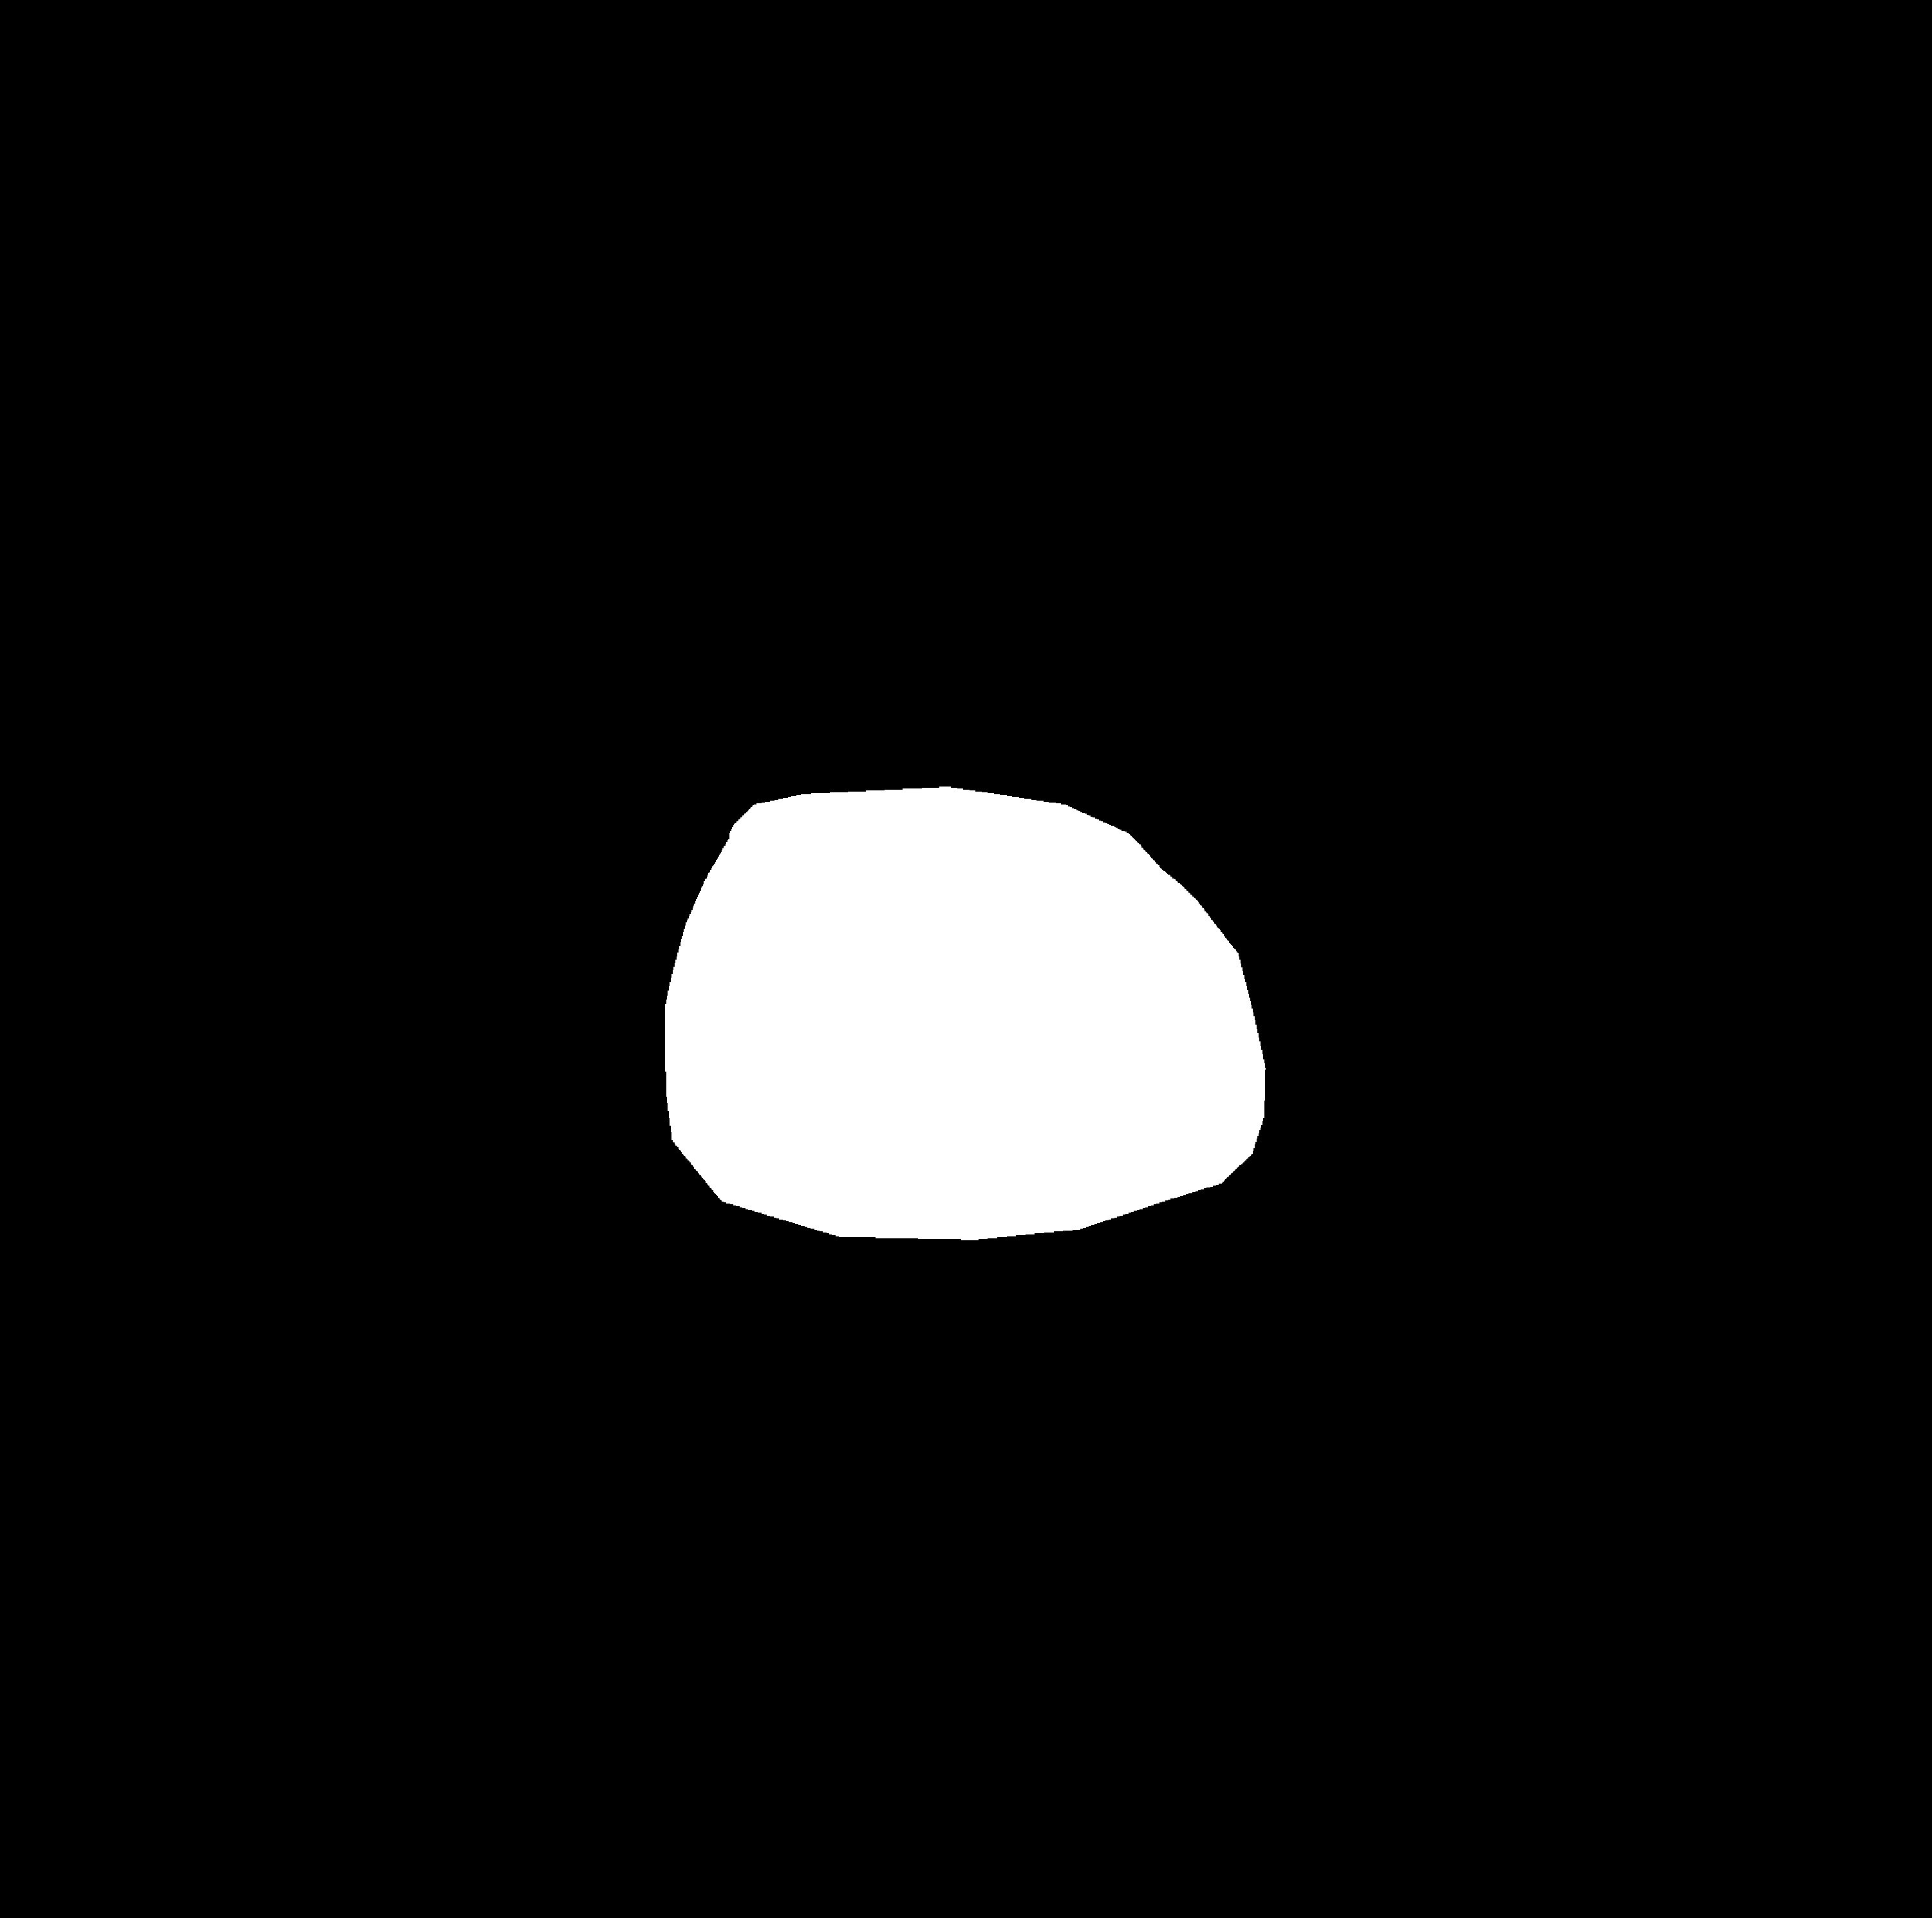heart: (660, 836, 1266, 1291)
left_lung: (205, 191, 868, 1363)
right_lung: (1042, 204, 1563, 1347)
